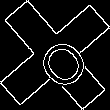O_NW: (22, 22, 88, 88)
